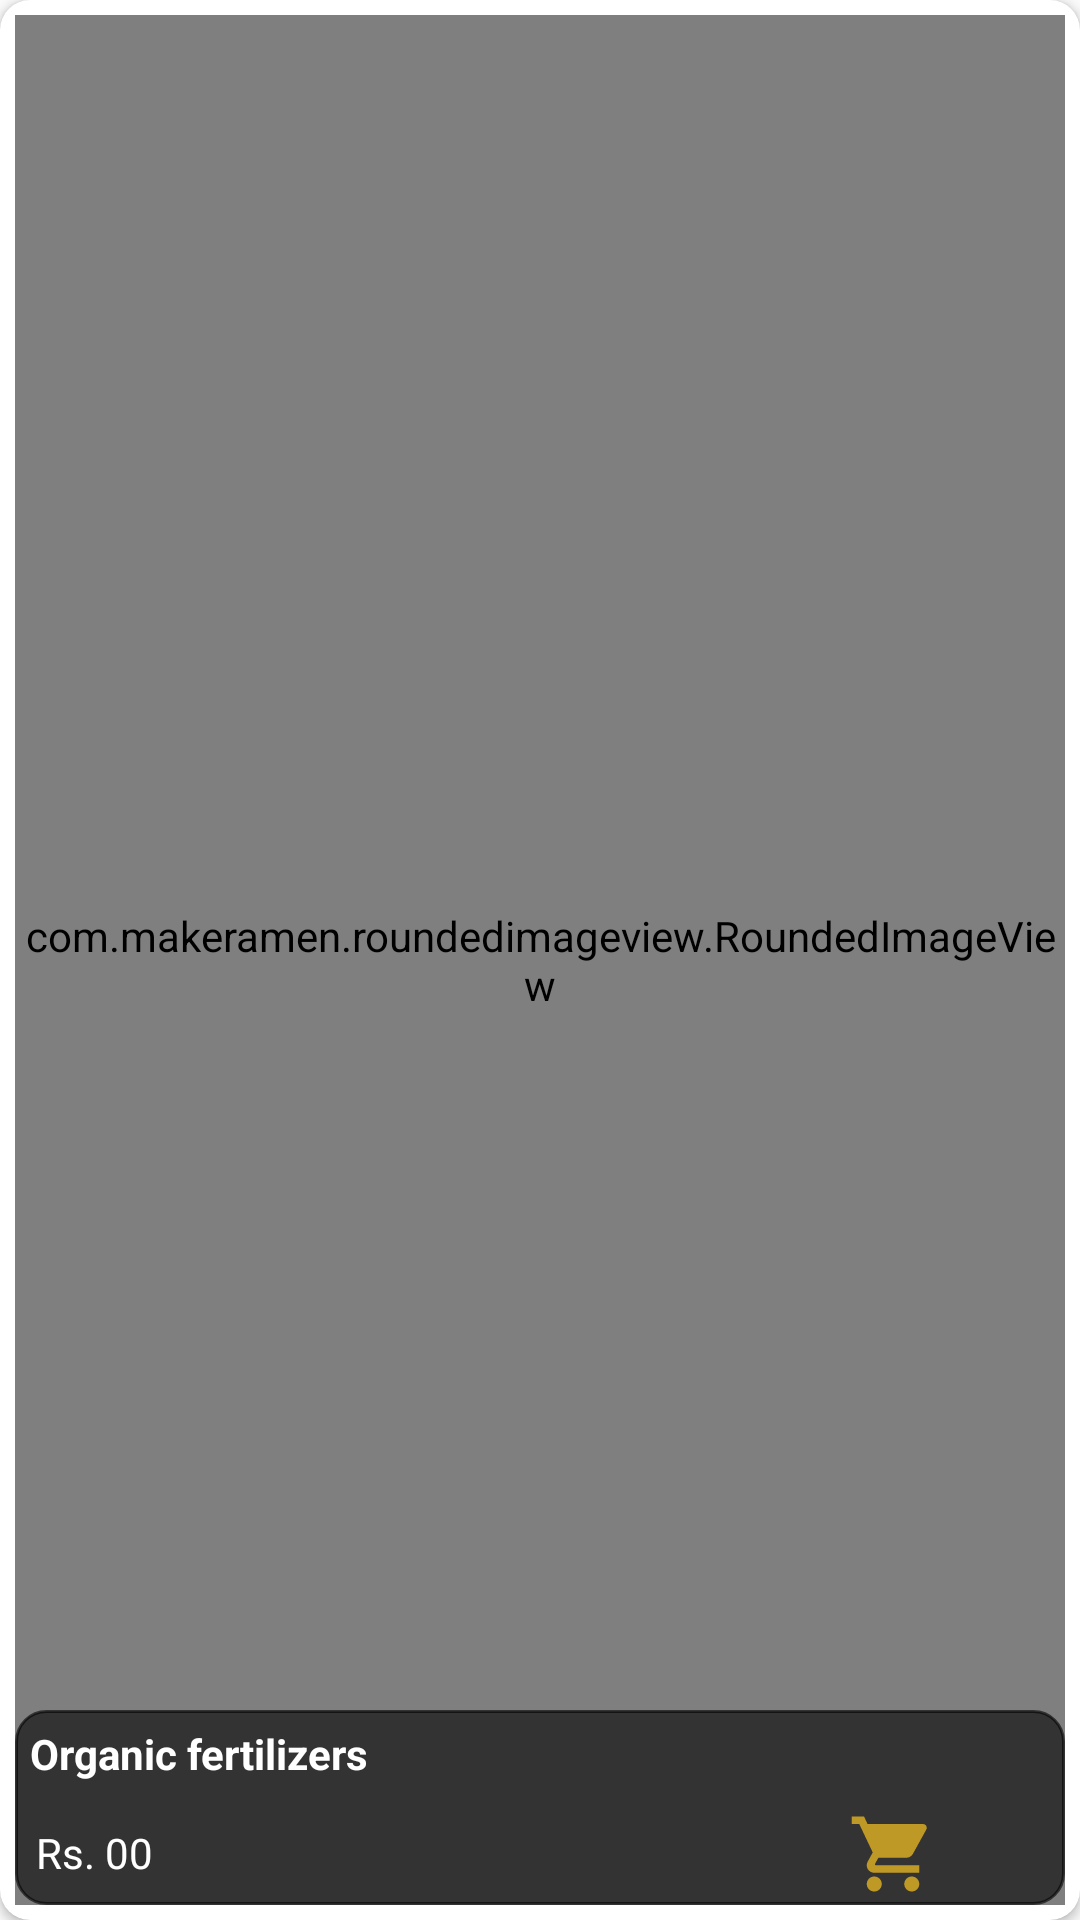

Icon bounding boxes for this 1080w x 1920h phone screenshot, format {"left": x1, "top": y1, "right": x2, "bottom": y2}:
cart: {"left": 851, "top": 1816, "right": 927, "bottom": 1892}
